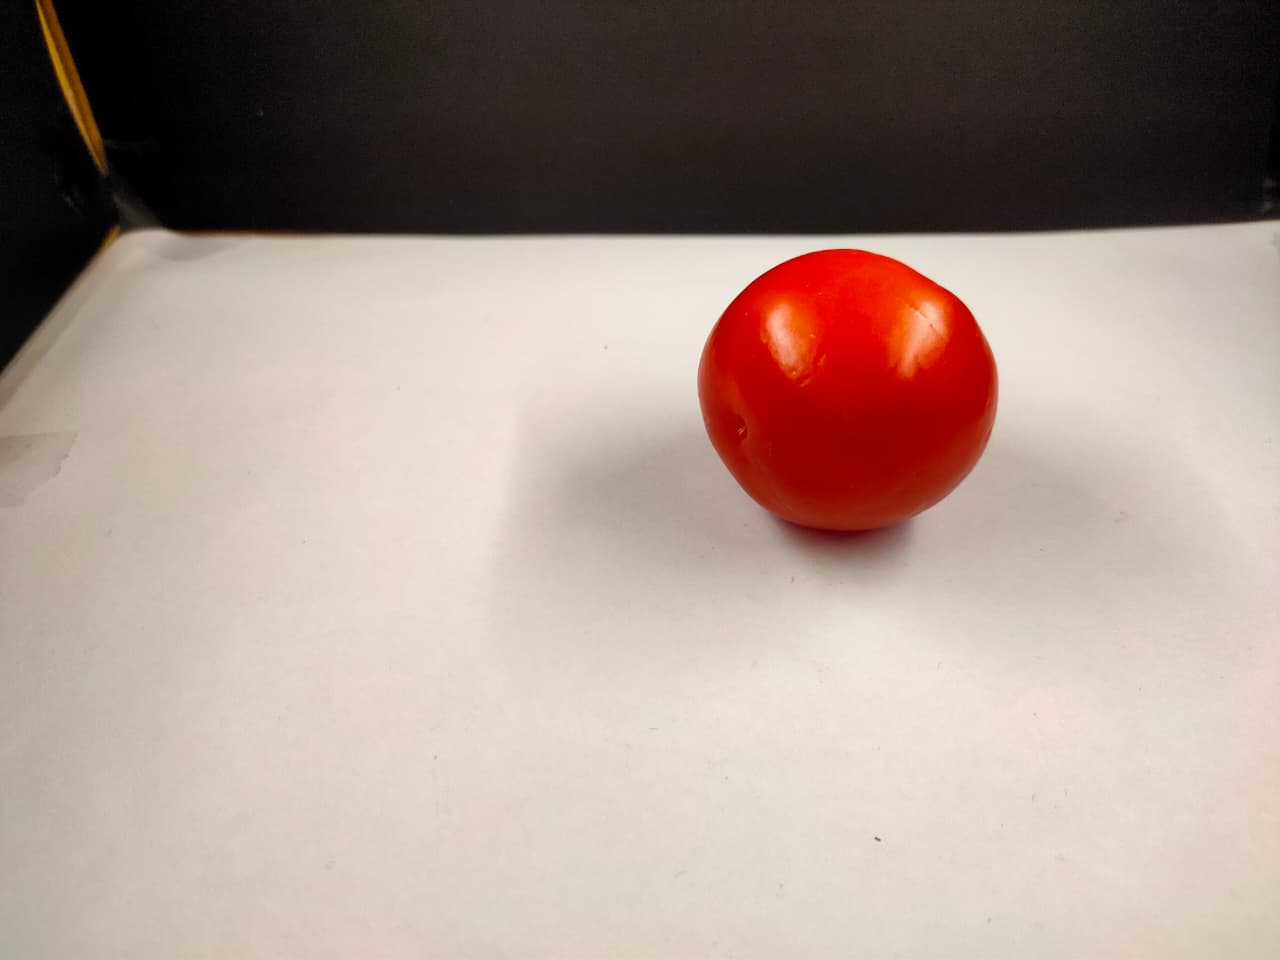ripe: (679, 248, 1012, 535)
